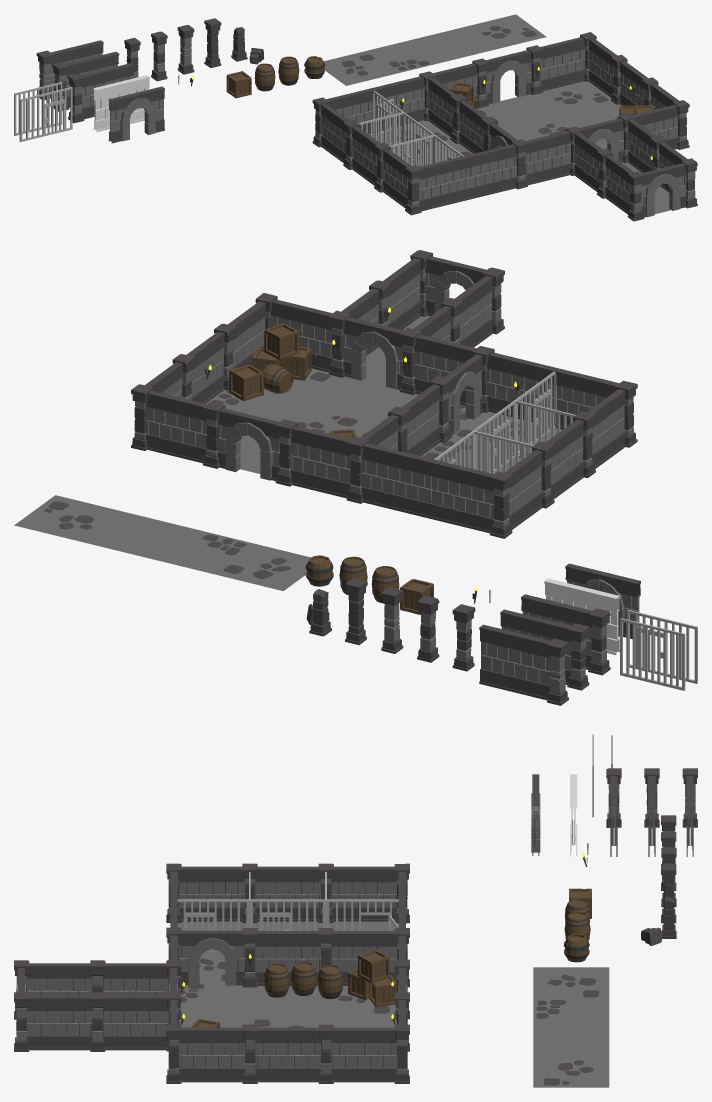
File: modular dungeon.fbx
3 renders of one model, top to bottom at view 1: azimuth 30°, elevation 25°; view 2: azimuth 150°, elevation 25°; view 3: azimuth 270°, elevation 25°, orthographic. The views are drawn at different scales.
Visible parts, largest first — view 1: Cube, Cube.028, Cube.017, wall door.002, Cube.024, wall door.004, Cube.030, Cube.007, Plane.009, Cube.016, wall door.003, Plane.010 (+49 smaller); view 2: Cube, Cube.010, Cube.012, flat wall.003, wall door.002, Cube.026, wall door.001, Cube.017, Plane.009, Plane.011, Plane.045, Plane.002 (+50 smaller); view 3: Cube.014, Cube.023, Cube.013, Cube.009, Cube.018, Cube.025, Cube.031, Cube.030, Cube.015, wall door.005, Cube.011, Plane.011 (+31 smaller).
Boxes of the visible parts, box(x1,y1,x2,y2) form: Cube: box(526, 37, 585, 94); Cube.028: box(464, 144, 517, 200); Cube.017: box(525, 126, 582, 185); wall door.002: box(472, 50, 532, 108); Cube.024: box(418, 156, 466, 210); wall door.004: box(108, 86, 164, 143); Cube.030: box(383, 149, 421, 215); Cube.007: box(605, 155, 644, 221); Plane.009: box(463, 14, 546, 49); Cube.016: box(632, 100, 689, 149); wall door.003: box(641, 163, 686, 217); Plane.010: box(409, 27, 492, 62); Cube: box(145, 390, 225, 468); Cube.010: box(290, 426, 369, 503); Cube.012: box(361, 443, 433, 518); flat wall.003: box(479, 624, 550, 700); wall door.002: box(217, 408, 298, 486); Cube.026: box(430, 459, 494, 533); wall door.001: box(328, 310, 403, 389); Cube.017: box(399, 328, 476, 405); Plane.009: box(14, 495, 126, 542); Plane.011: box(140, 526, 252, 573); Plane.045: box(212, 543, 310, 590); Plane.002: box(301, 376, 408, 420); Cube.014: box(179, 1024, 257, 1083); Cube.023: box(14, 992, 92, 1051); Cube.013: box(255, 1024, 333, 1083); Cube.009: box(331, 1024, 409, 1083); Cube.018: box(90, 992, 168, 1051); Cube.025: box(318, 863, 397, 922); Cube.031: box(242, 863, 320, 922); Cube.030: box(166, 863, 244, 922); Cube.015: box(242, 928, 320, 987); wall door.005: box(166, 927, 244, 986); Cube.011: box(318, 928, 397, 985); Plane.011: box(533, 999, 609, 1031).
Bounding box in the file's own units: 3754 × 313 × 3594.
